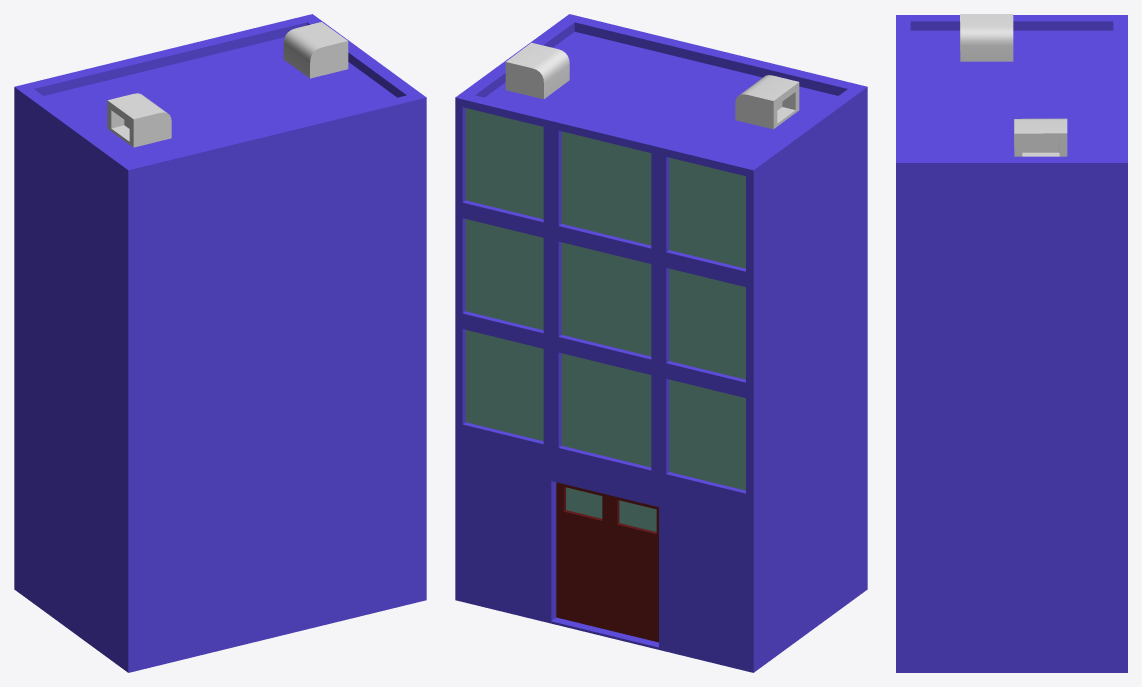
The model's file is Hotel_Re.FBX.
3 renders of one model, left to right at view 1: azimuth 30°, elevation 25°; view 2: azimuth 150°, elevation 25°; view 3: azimuth 270°, elevation 25°, orthographic.
Visible parts, largest first — view 1: Box001, Box003, Box002; view 2: Box001, Box003, Box002; view 3: Box001, Box002, Box003.
Part boxes in pixels (bbox=[...]): Box001: bbox=[14, 14, 426, 672]; Box003: bbox=[283, 22, 348, 78]; Box002: bbox=[107, 93, 171, 147]; Box001: bbox=[455, 14, 867, 672]; Box003: bbox=[505, 42, 569, 99]; Box002: bbox=[735, 75, 799, 129]; Box001: bbox=[896, 15, 1127, 672]; Box002: bbox=[960, 14, 1013, 61]; Box003: bbox=[1014, 118, 1067, 156].
Bounding box in the file's own units: 184 × 307 × 122.
